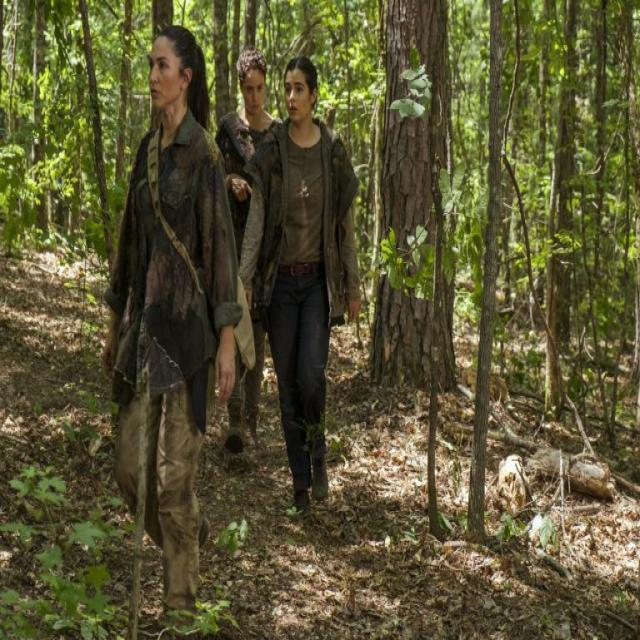body: (99, 20, 240, 639), (237, 53, 364, 522), (210, 41, 298, 460)
